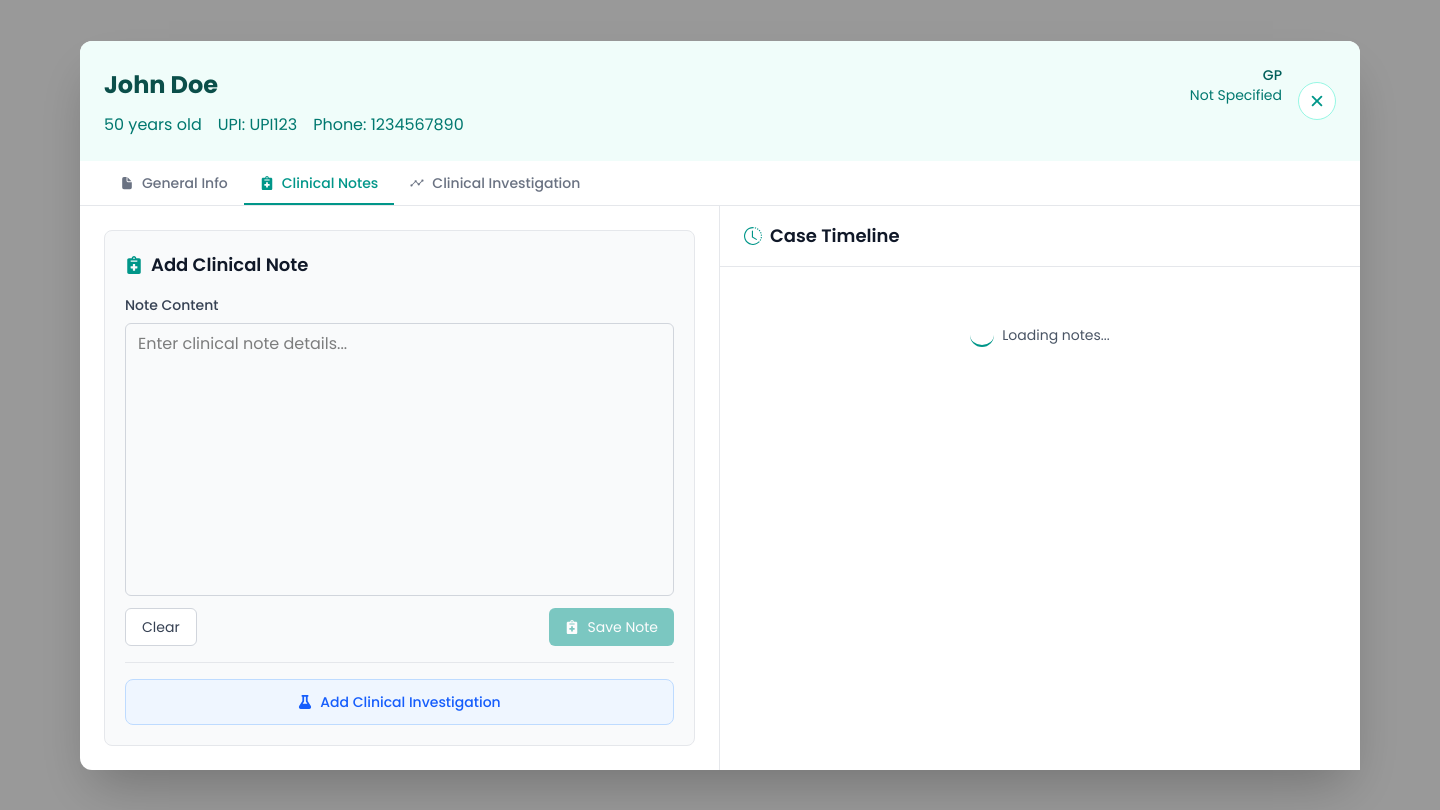
Test: NursePatientDetailsModal › Loading States › should show loading state while saving note
Step 1. Type "Test note" into the text box with placeholder "Enter clinical note details..." → (400, 459), box [125, 322, 674, 596]
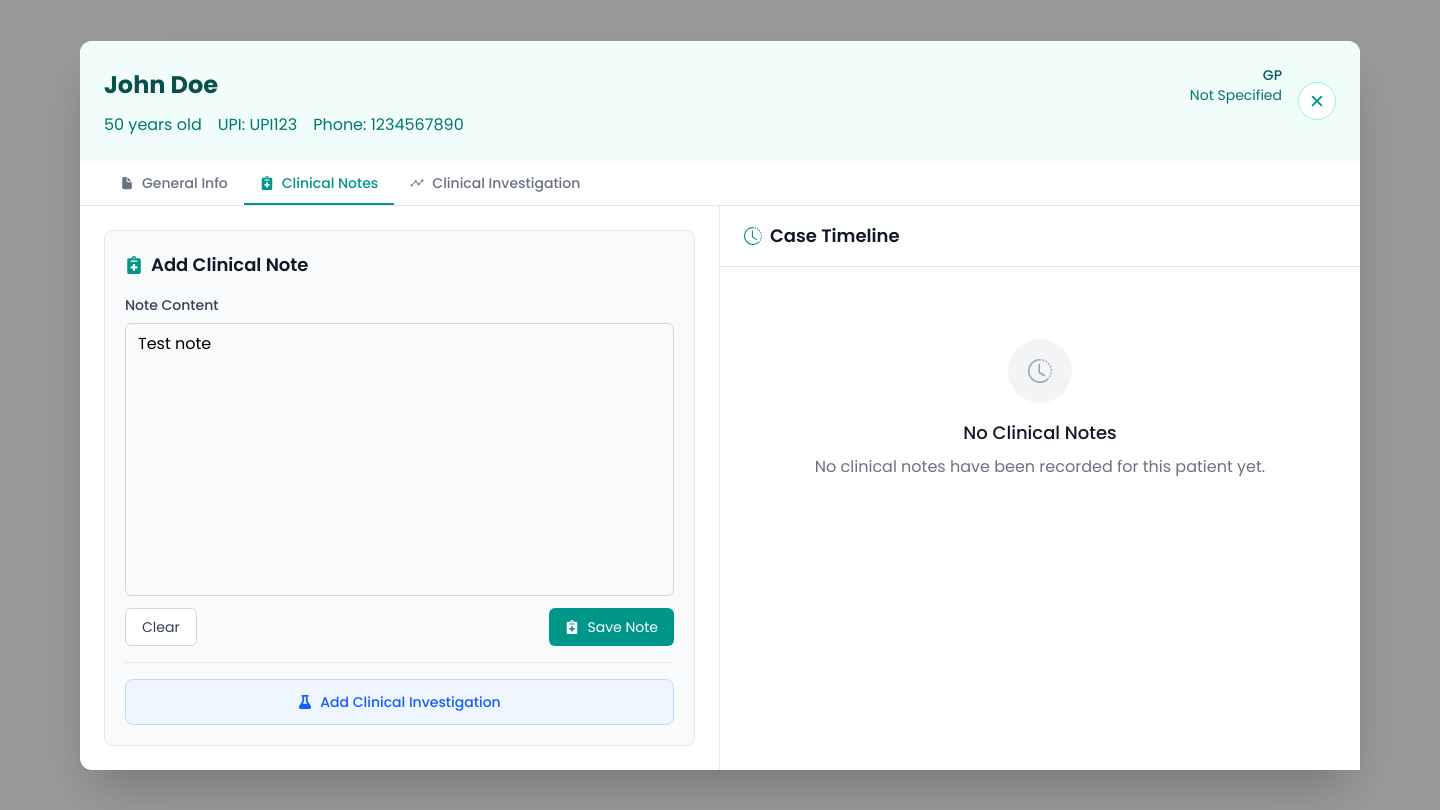
Step 2. Click the button "Save Note" → (612, 626), box [550, 608, 674, 646]
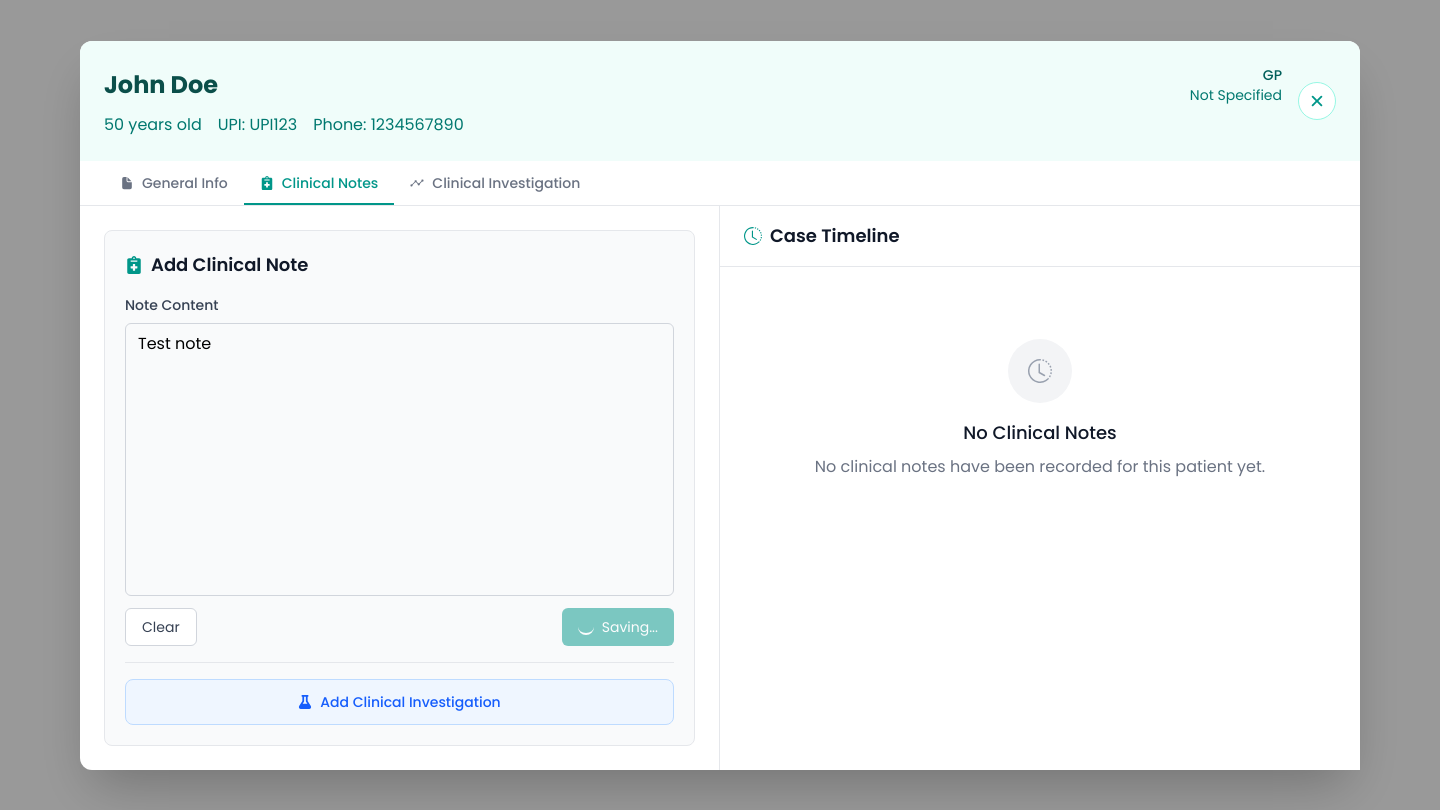
Expected: the button "Saving..." is shown, [562, 608, 674, 646]
